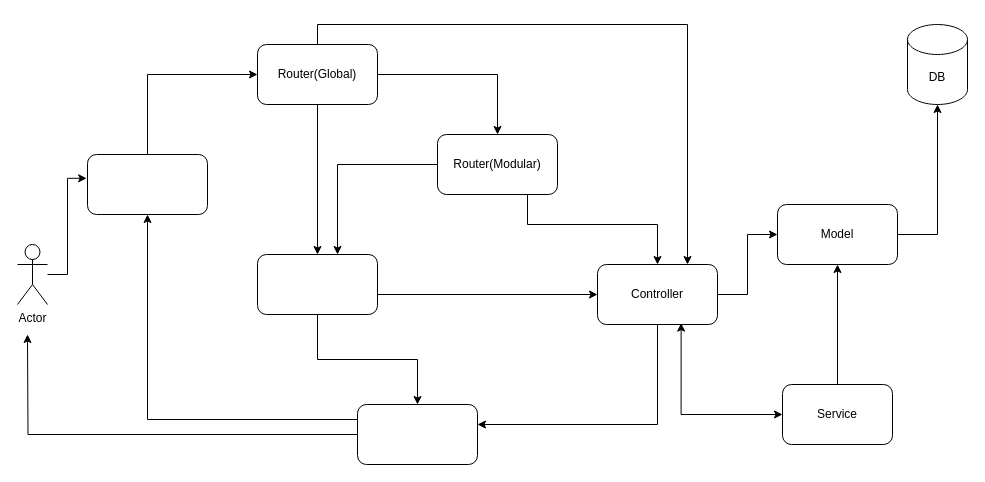
The diagram is 985 pixels wide and 482 high, and some of its shapes have lost their labels. The box of each missing label's shape, as (x1, y1, x2, y2) in pixels:
Middleware: (256, 254, 378, 314)
Response: (356, 404, 478, 464)
Web Interface/Applicaton: (86, 154, 208, 214)
